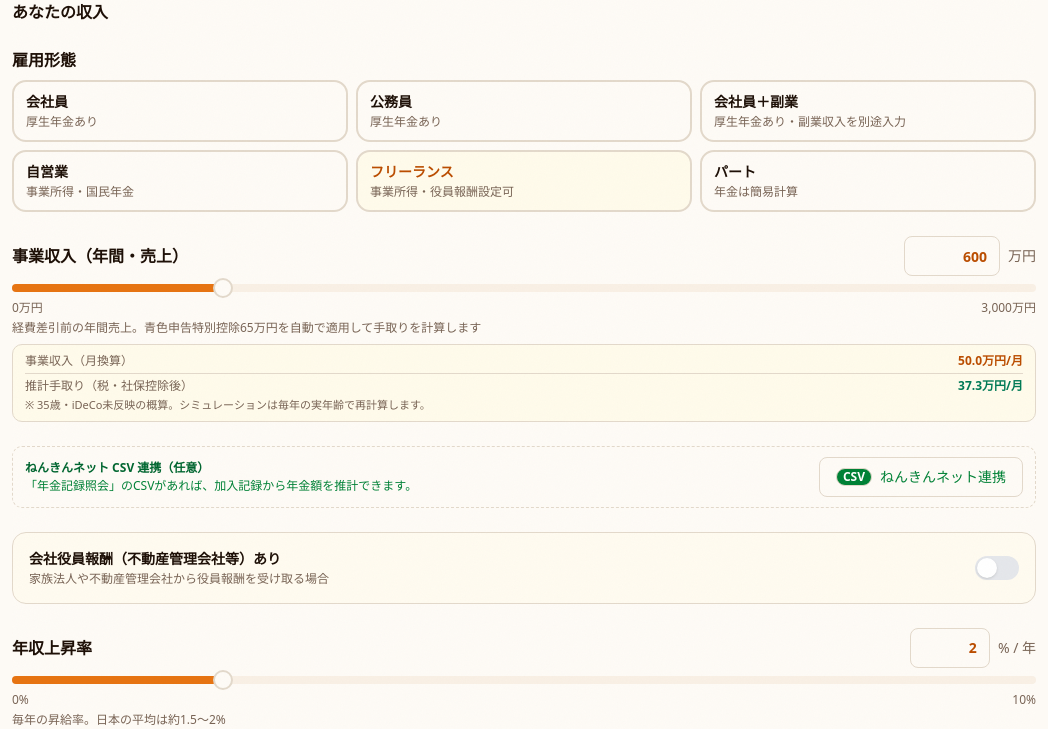
Test: optional income sources › freelance with an officer salary shows the combined gross and take-home estimate
The image size is (1048, 729).
Expected: the text "合算総収入（月換算）" is not shown
Click the switch named "会社役員報酬（不動産管理会社等）あり" in the row of "家族法人や不動産管理会社から役員報酬を受け取る場合": (997, 568) x1=975 y1=556 x2=1019 y2=580
(page scrolled)
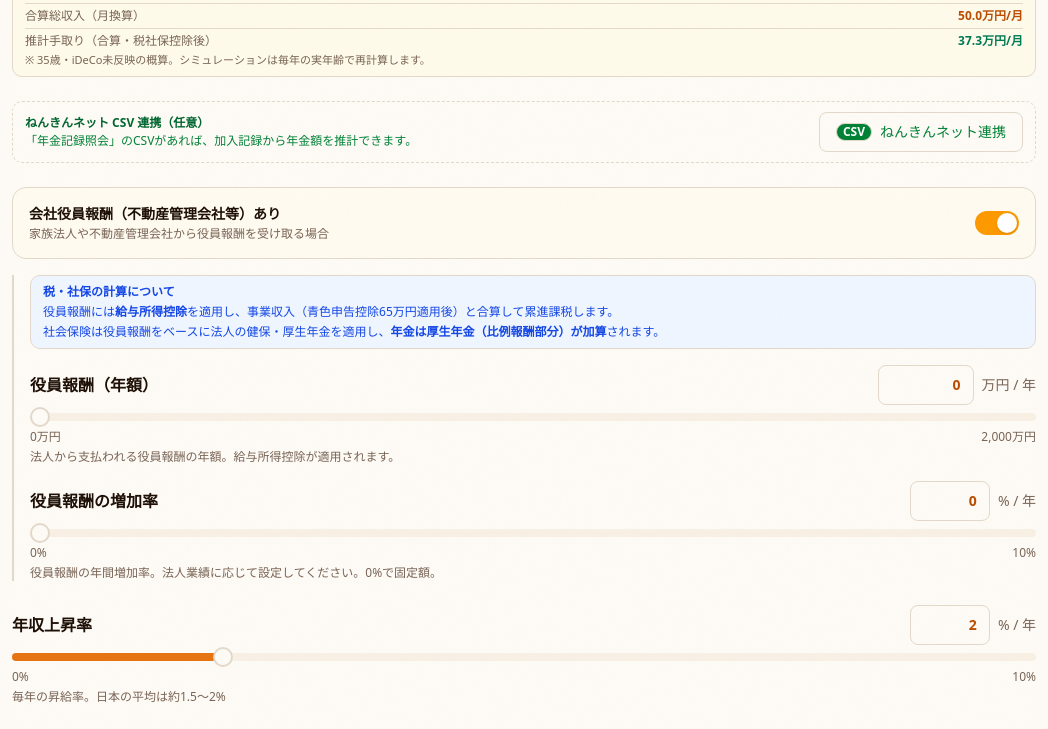
Replace the text in the field named "役員報酬（年額）" with "240": (926, 385) x1=878 y1=365 x2=974 y2=405
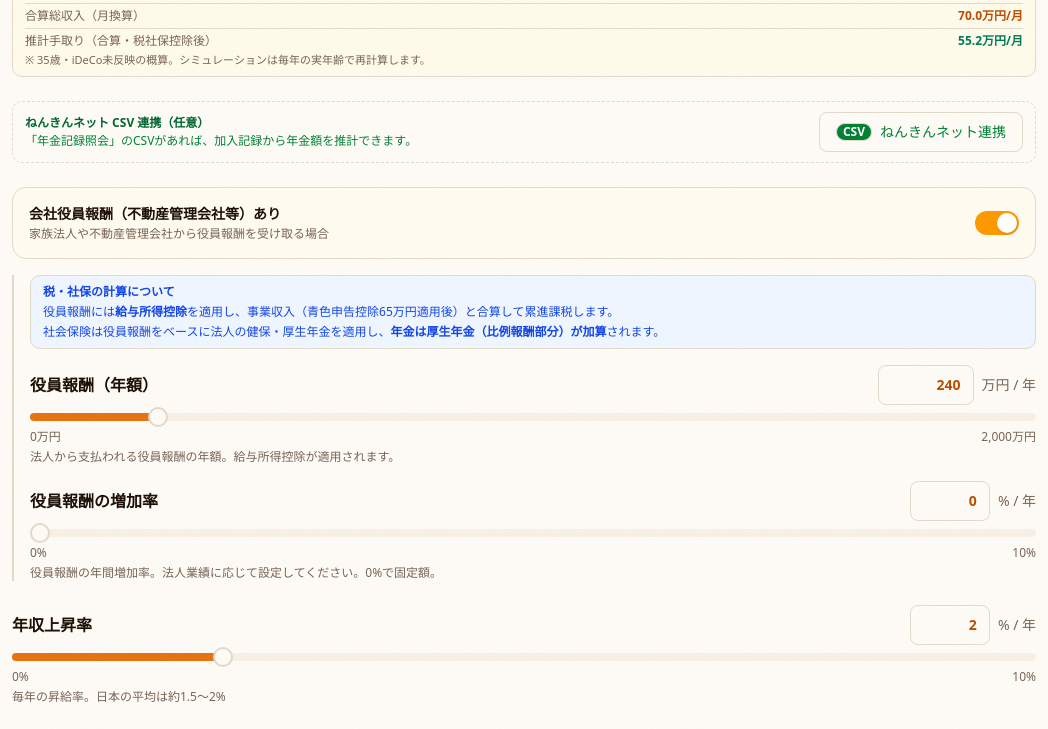
Result: the text "合算総収入（月換算）" is shown at x1=25 y1=8 x2=145 y2=24
Result: the text "推計手取り（合算・税社保控除後）" is shown at x1=25 y1=33 x2=217 y2=49
Result: the text "70.0万円/月" is shown at x1=958 y1=8 x2=1023 y2=24
